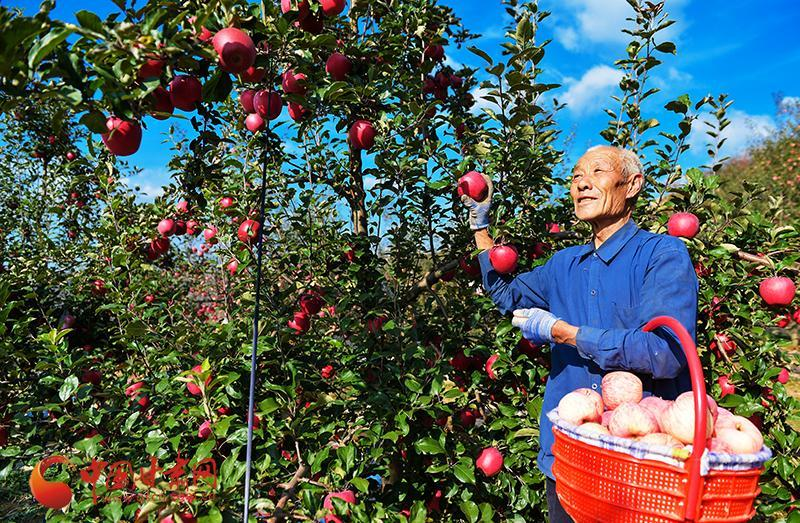apple: (606, 400, 658, 439), (202, 120, 246, 166), (212, 26, 256, 72), (599, 371, 642, 411), (102, 115, 141, 155), (167, 73, 202, 113), (456, 170, 489, 200), (252, 89, 281, 119), (489, 244, 519, 272), (348, 121, 376, 151), (667, 212, 698, 237), (364, 221, 392, 248), (280, 69, 309, 95), (476, 447, 502, 476), (325, 52, 351, 81), (236, 219, 261, 245), (79, 368, 101, 386), (156, 217, 173, 236)
